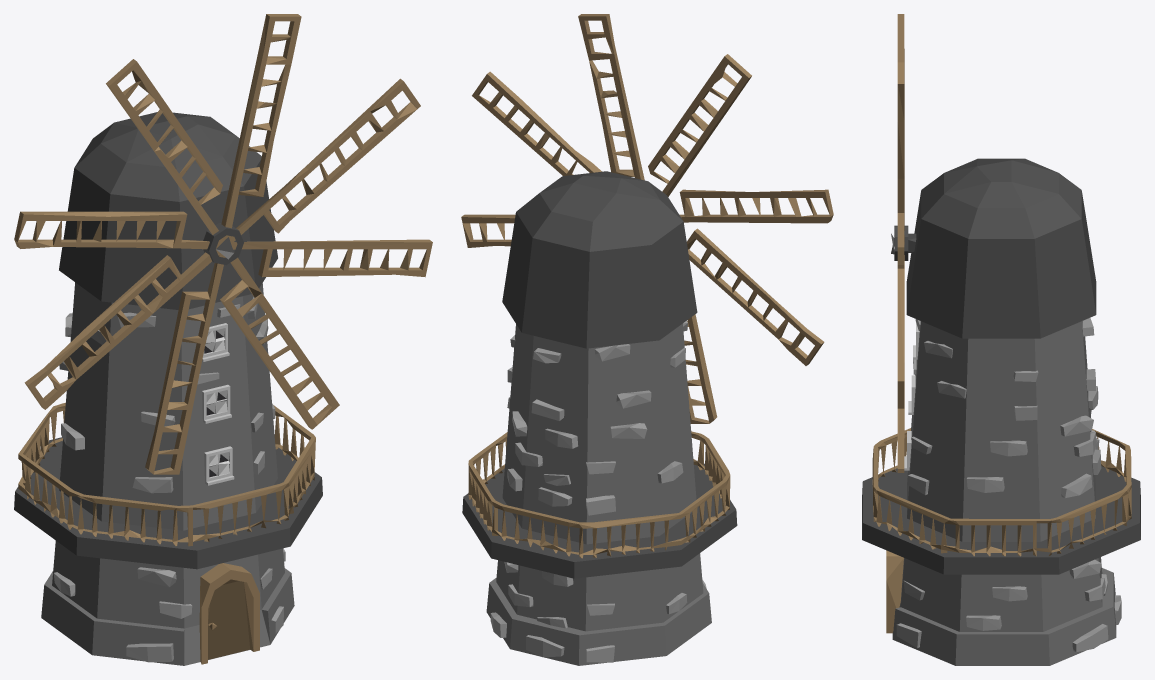
The model's file is farm_towerwindmill.glb.
3 renders of one model, left to right at view 1: azimuth 30°, elevation 25°; view 2: azimuth 150°, elevation 25°; view 3: azimuth 270°, elevation 25°, orthographic. The views are drawn at different scales.
Parts seen in each view (by area): view 1: TowerWindmill, TowerWindmill_Blades; view 2: TowerWindmill, TowerWindmill_Blades; view 3: TowerWindmill, TowerWindmill_Blades.
Part boxes in pixels (x1,y1,x2,y2): TowerWindmill: (14, 112, 322, 665); TowerWindmill_Blades: (14, 14, 432, 474); TowerWindmill: (462, 171, 737, 665); TowerWindmill_Blades: (461, 14, 833, 423); TowerWindmill: (862, 158, 1140, 665); TowerWindmill_Blades: (897, 14, 904, 472).
Bounding box in the file's own units: 7.92 × 11.41 × 4.99.
